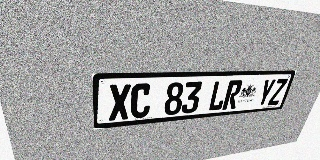3: (181, 81, 203, 114)
8: (163, 82, 185, 116)
C: (130, 83, 152, 119)
L: (207, 80, 229, 111)
R: (222, 80, 243, 110)
X: (109, 84, 131, 121)
Y: (255, 79, 277, 107)
Z: (267, 78, 288, 105)
